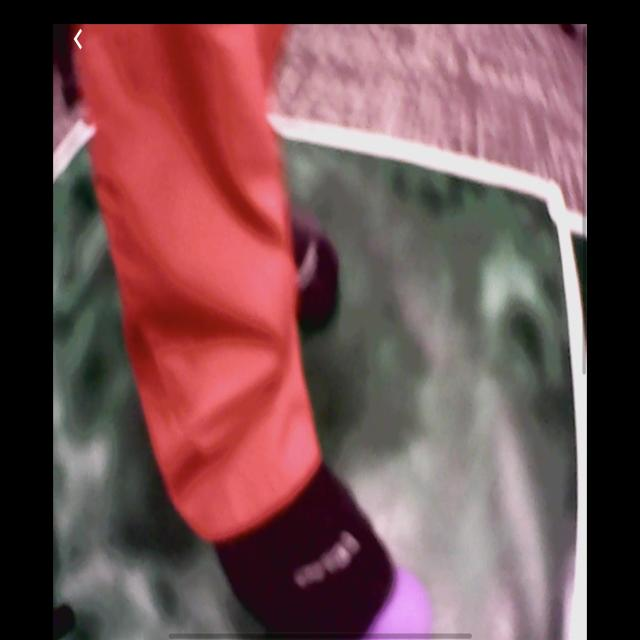ball: (355, 564, 435, 638)
